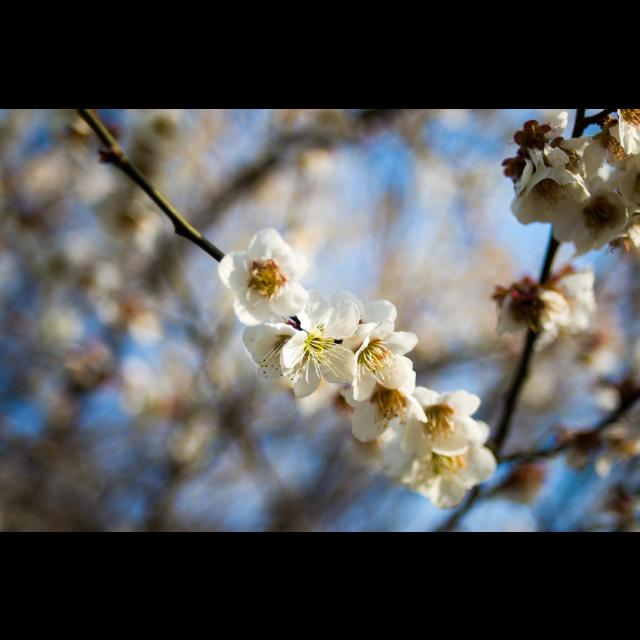Flower: (340, 298, 494, 510), (512, 108, 640, 254), (250, 305, 360, 393), (218, 226, 314, 326), (492, 261, 596, 349)
